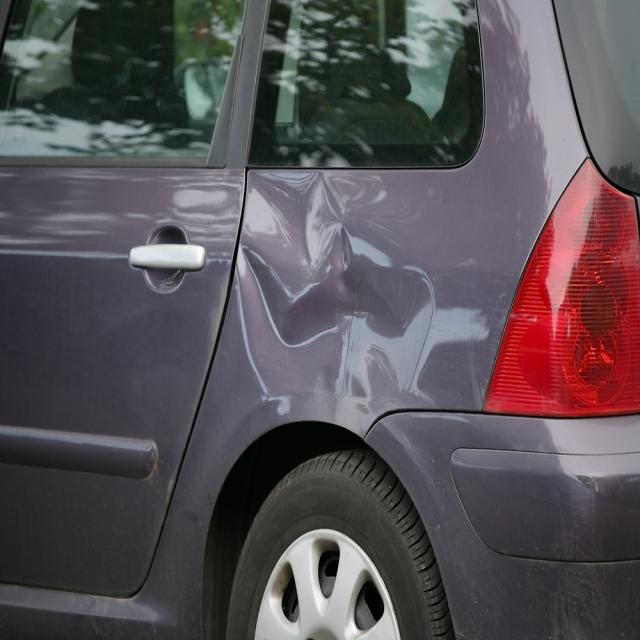dent: (239, 171, 433, 438)
